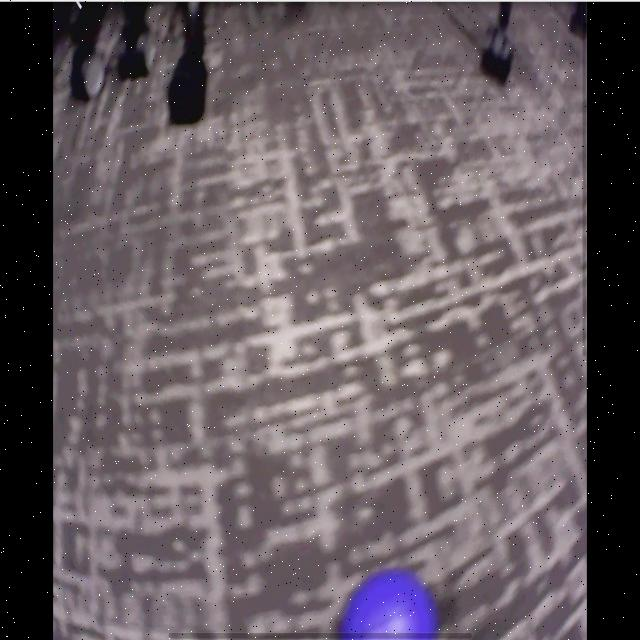ball: (340, 572, 434, 640)
